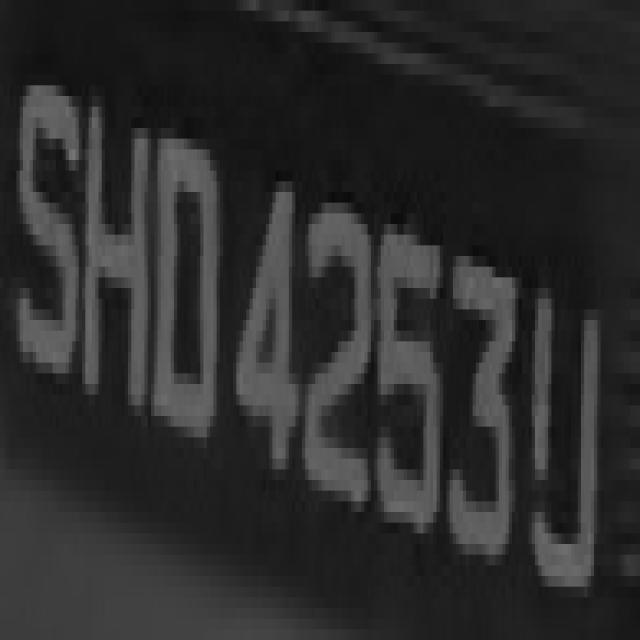2: (292, 170, 371, 522)
3: (440, 203, 522, 586)
4: (220, 139, 302, 501)
5: (368, 171, 440, 565)
D: (148, 107, 223, 480)
H: (78, 64, 158, 448)
S: (16, 32, 82, 405)
U: (522, 245, 610, 640)
